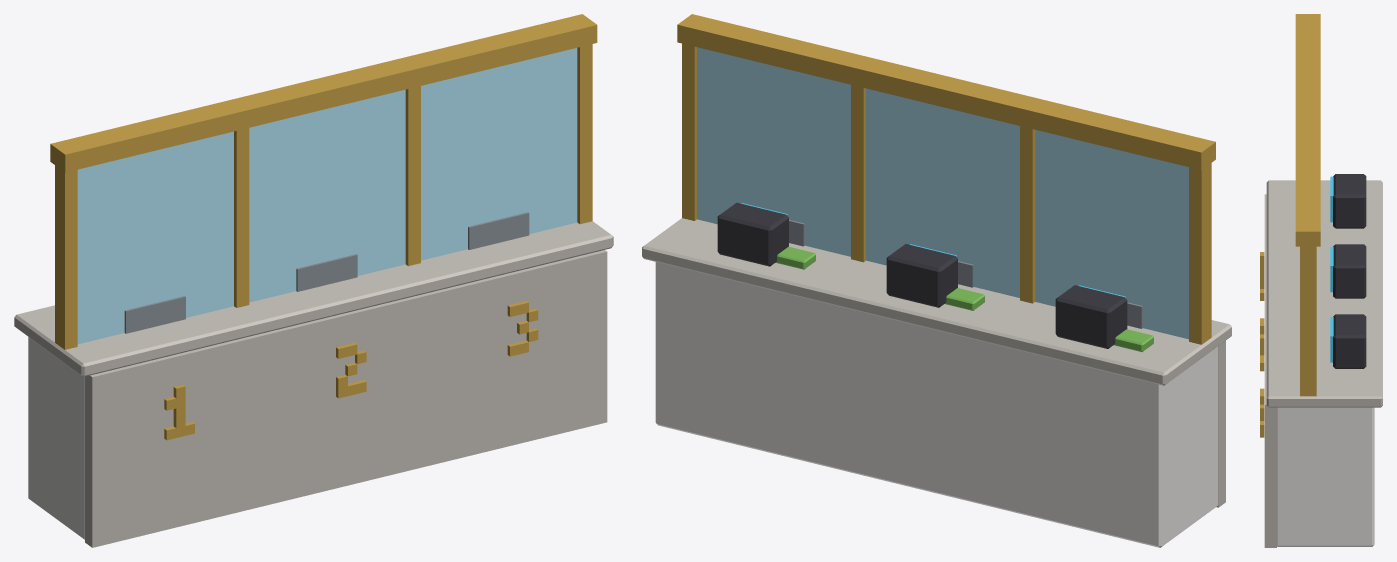
Rendered from TellerCounter.fbx.
The picture shows the model from 3 angles, left to right: view 1: azimuth 30°, elevation 25°; view 2: azimuth 150°, elevation 25°; view 3: azimuth 270°, elevation 25°; orthographic projection. The views are drawn at different scales.
Parts seen in each view (by area): view 1: TellerCounter; view 2: TellerCounter; view 3: TellerCounter.
Part boxes in pixels (x1=…): TellerCounter: x1=14, y1=14, x2=613, y2=547; TellerCounter: x1=642, y1=14, x2=1231, y2=547; TellerCounter: x1=1260, y1=14, x2=1382, y2=547.
Size of the model in its own units: 12.4 by 8.5 by 2.96.
1 material, 1 textured.
